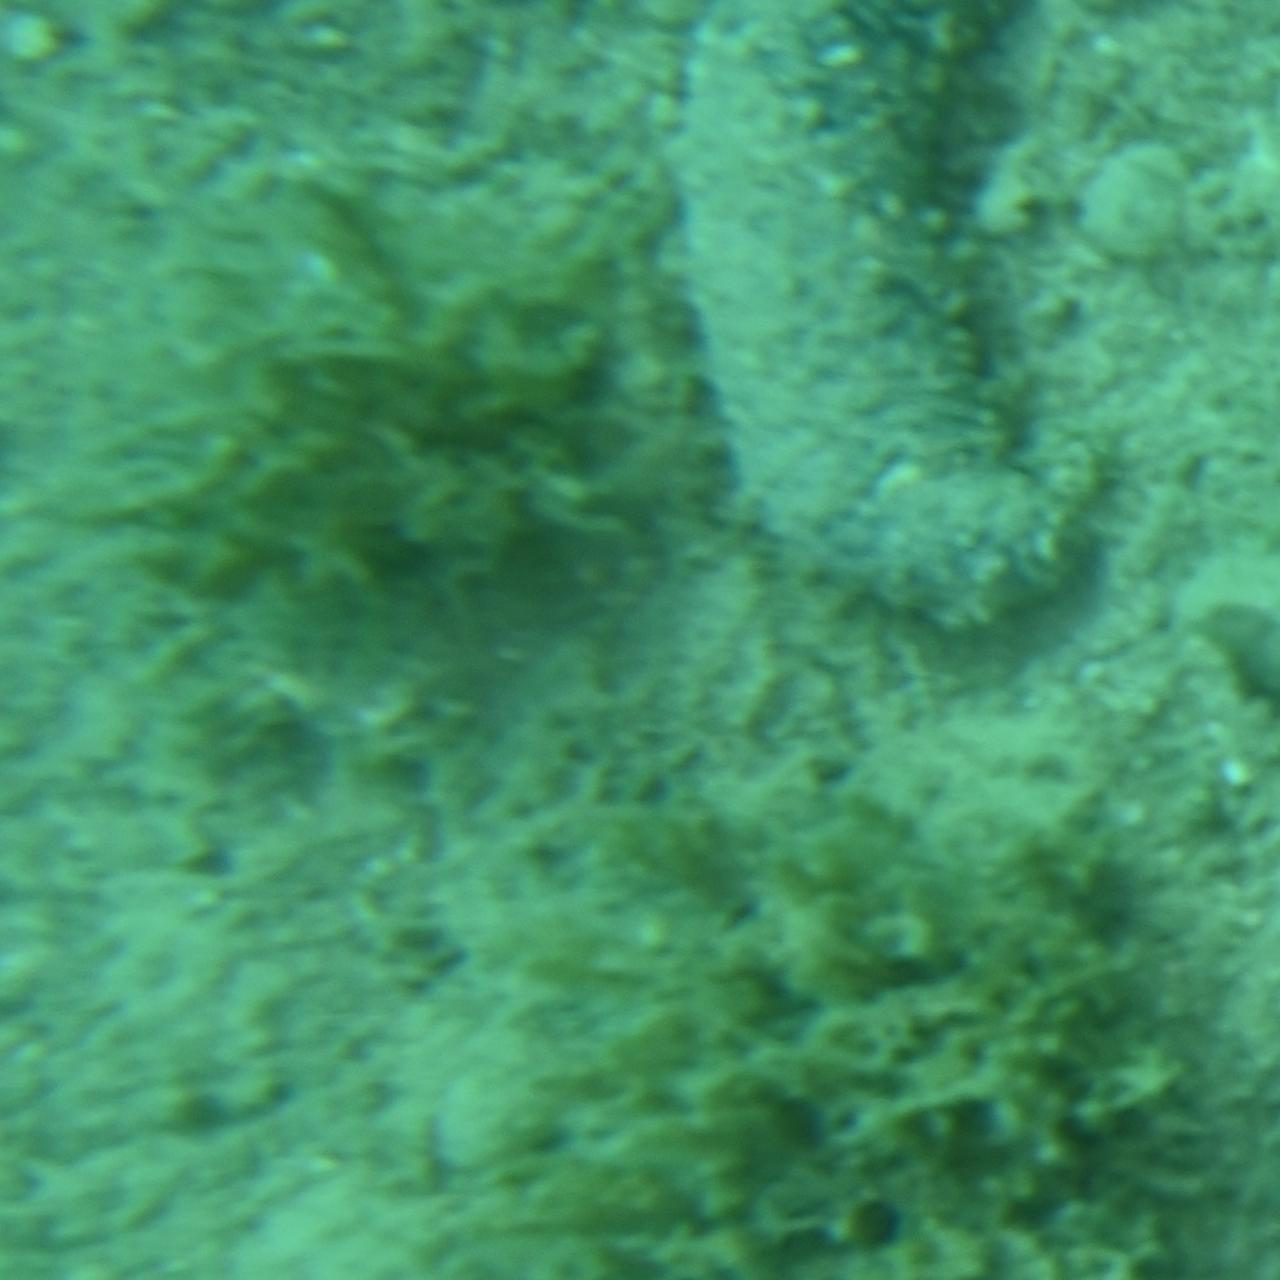Holothuria tubulosa: (668, 0, 1122, 644)
Phaeophyceae -cfr Cystoseira-: (451, 789, 1217, 1280), (123, 170, 647, 695)
